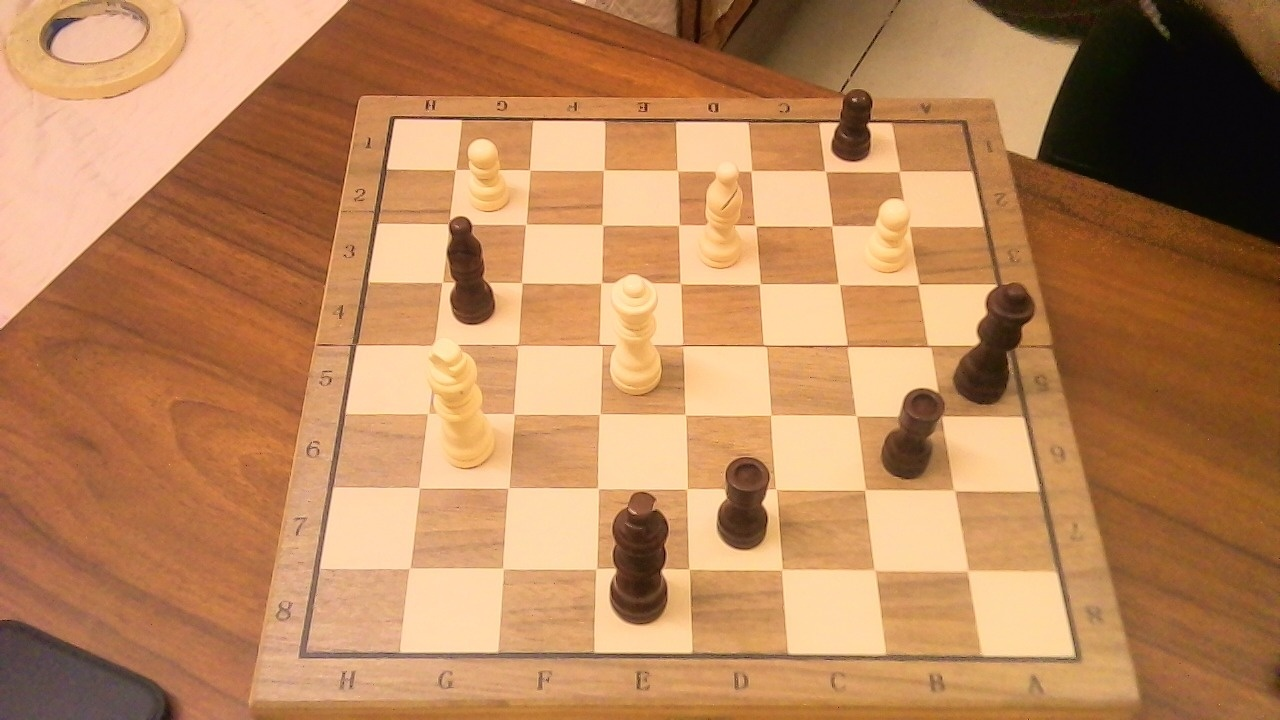B: (690, 151, 753, 274)
K: (423, 325, 503, 473)
P: (856, 190, 918, 277), (457, 130, 516, 215)
Q: (604, 263, 672, 398)
b: (442, 204, 508, 328)
k: (602, 475, 686, 630)
p: (826, 77, 883, 166)
q: (949, 268, 1047, 409)
r: (875, 374, 955, 484), (708, 444, 782, 554)
